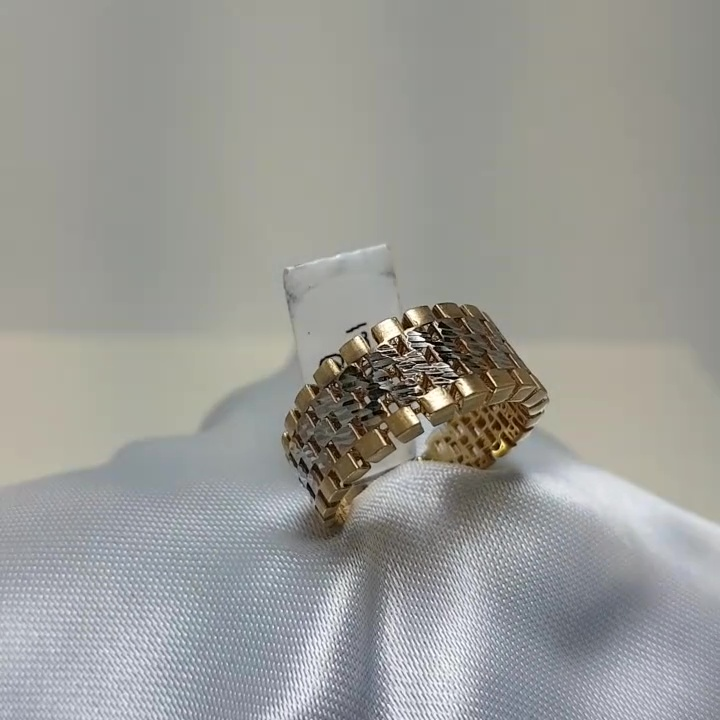Ring 1: (260, 295, 555, 530)
